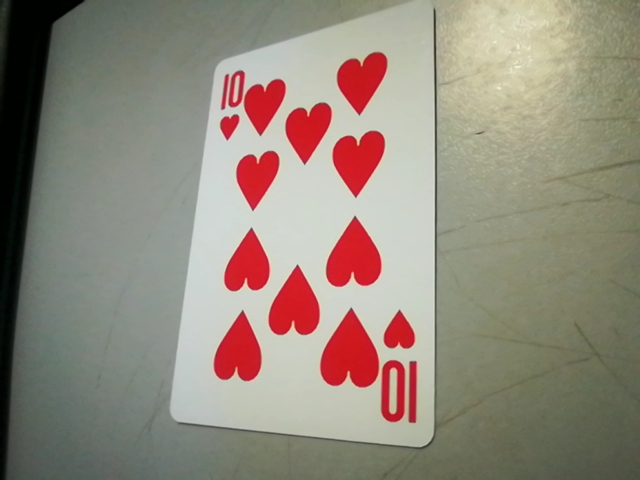hx 10: (377, 308, 433, 433)
